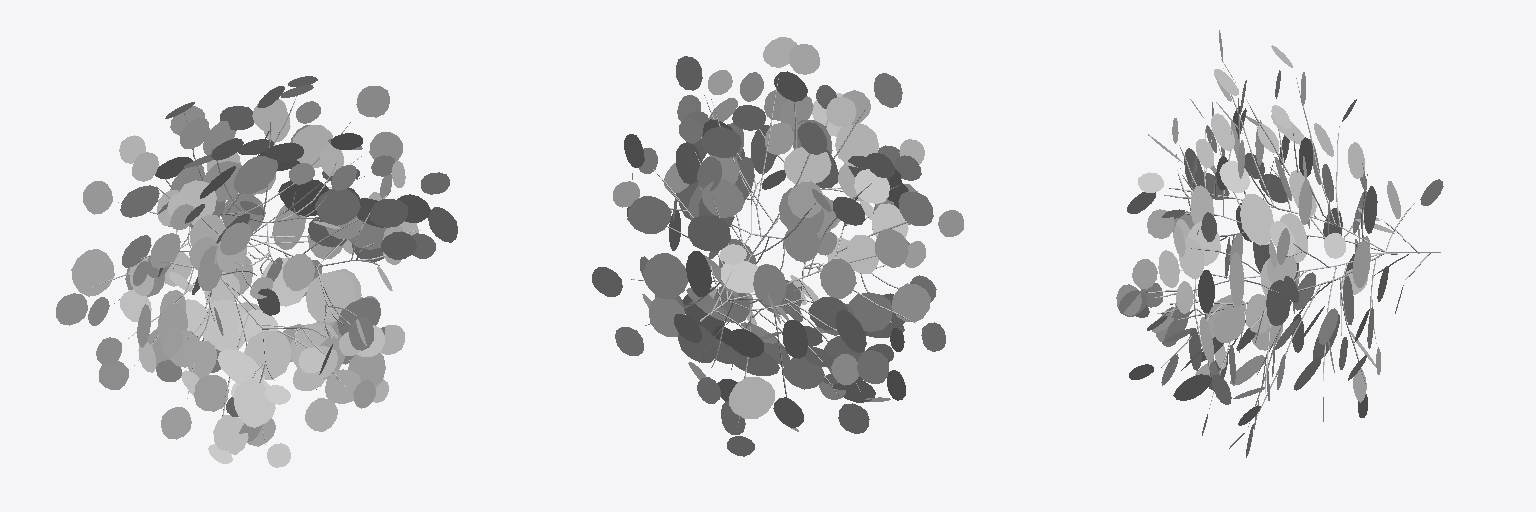
Rendered from plant33_L.obj.
3 views of the same model, side by side, from view 1: azimuth 30°, elevation 25°; view 2: azimuth 150°, elevation 25°; view 3: azimuth 270°, elevation 25° (orthographic).
Visible parts, largest first — view 1: leaves.001, tree.001; view 2: leaves.001, tree.001; view 3: leaves.001, tree.001.
Boxes of the visible parts, box(x1,y1,x2,y2) form: leaves.001: box(56, 76, 457, 467); tree.001: box(90, 96, 420, 444); leaves.001: box(592, 37, 963, 456); tree.001: box(631, 78, 915, 426); leaves.001: box(1116, 30, 1443, 457); tree.001: box(1146, 68, 1440, 426).
Size of the model in its own units: 0.5393 by 0.5875 by 0.4521.